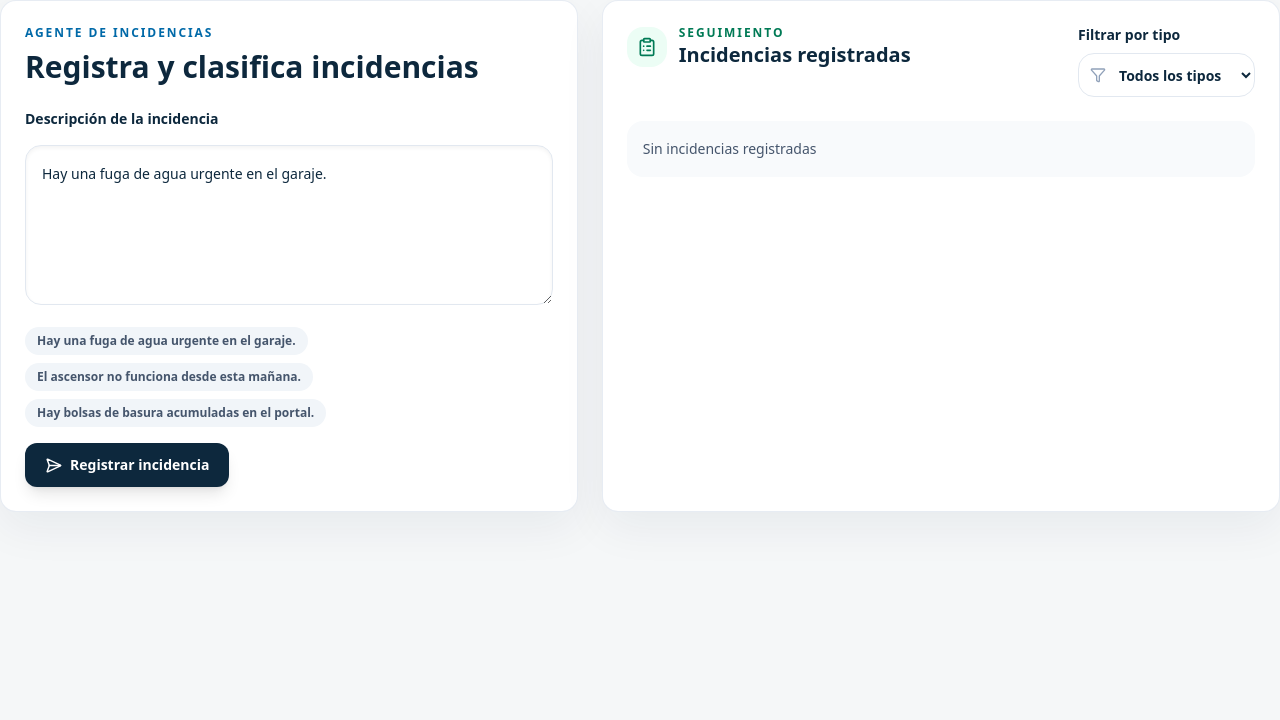
Test case: IncidentsPanel › muestra el motivo de fallback al crear una incidencia determinista
Expected: the text "Sin incidencias registradas" is shown, 627,121 -> 1255,177
Replace the text in the text box labelled "Descripción de la incidencia" with "El ascensor no funciona desde esta mañana." at (289, 225), box 25,145 -> 553,305
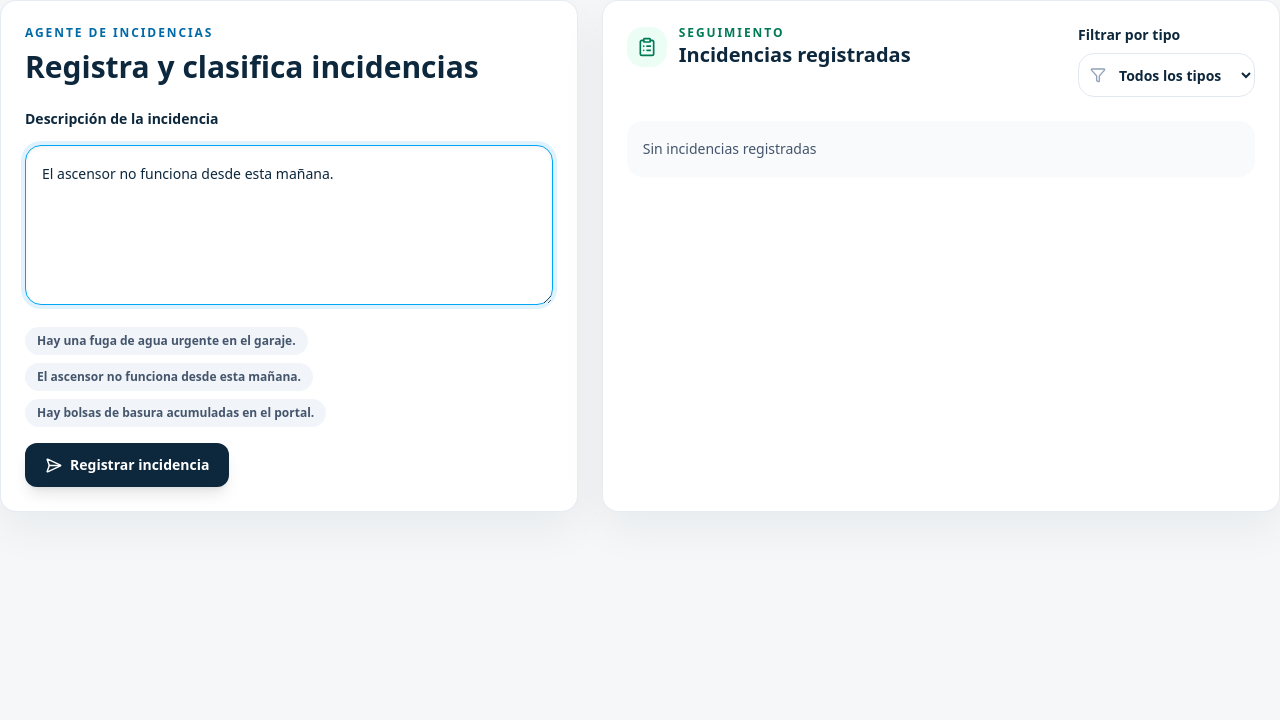
Click the button "Registrar incidencia" at (127, 465), box 25,443 -> 229,487
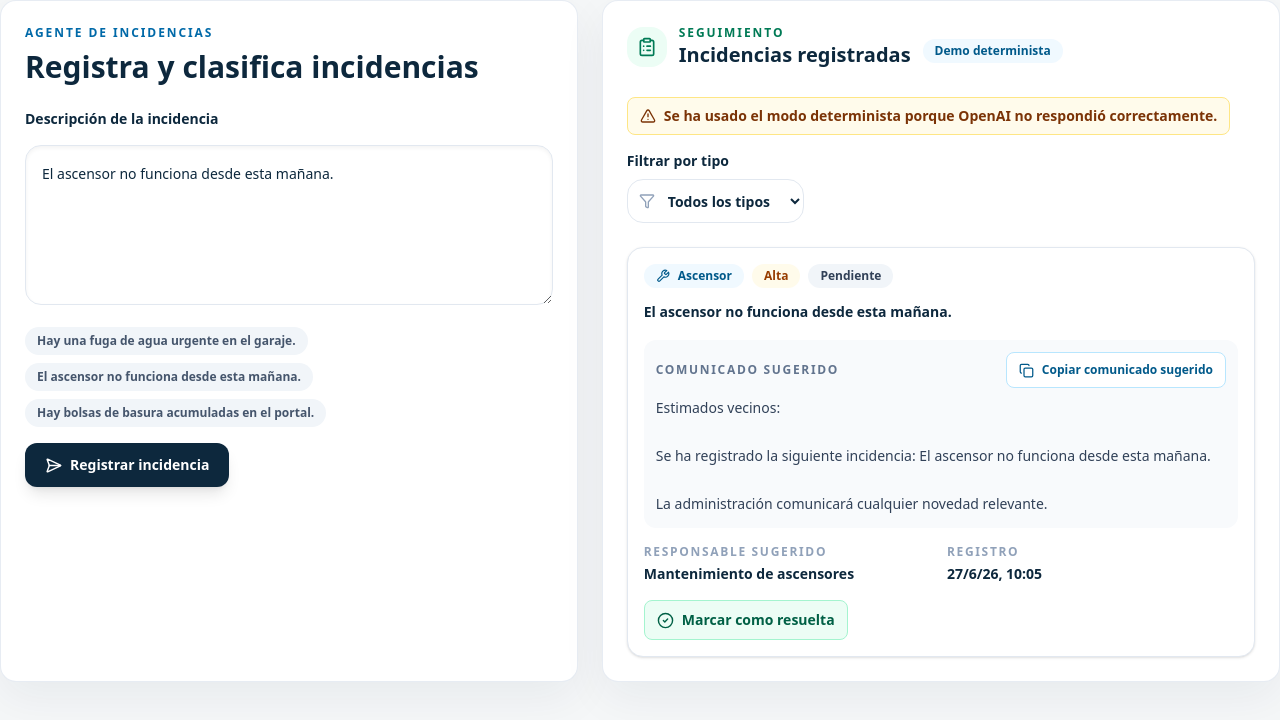
Expected: the text "OpenAI no respondió correctamente" is shown, 664,106 -> 1217,125
